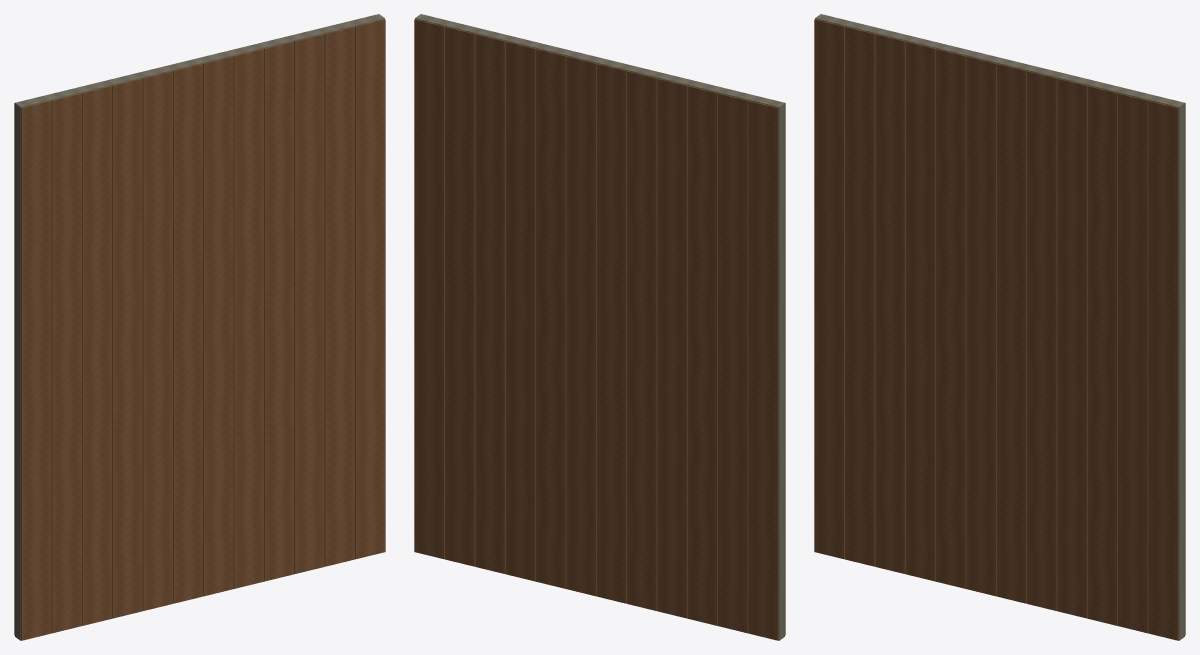
File: MRP_Wall_Wood_2m.fbx
3 views of the same model, side by side, from view 1: azimuth 30°, elevation 25°; view 2: azimuth 150°, elevation 25°; view 3: azimuth 330°, elevation 25° (orthographic).
Visible parts, largest first — view 1: Body; view 2: Body; view 3: Body.
Part boxes in pixels (box(x1,y1,x2,y2)): Body: box(14, 14, 385, 640); Body: box(414, 14, 785, 640); Body: box(814, 14, 1185, 640).
Size of the model in its own units: 2 by 2.8 by 0.07.
